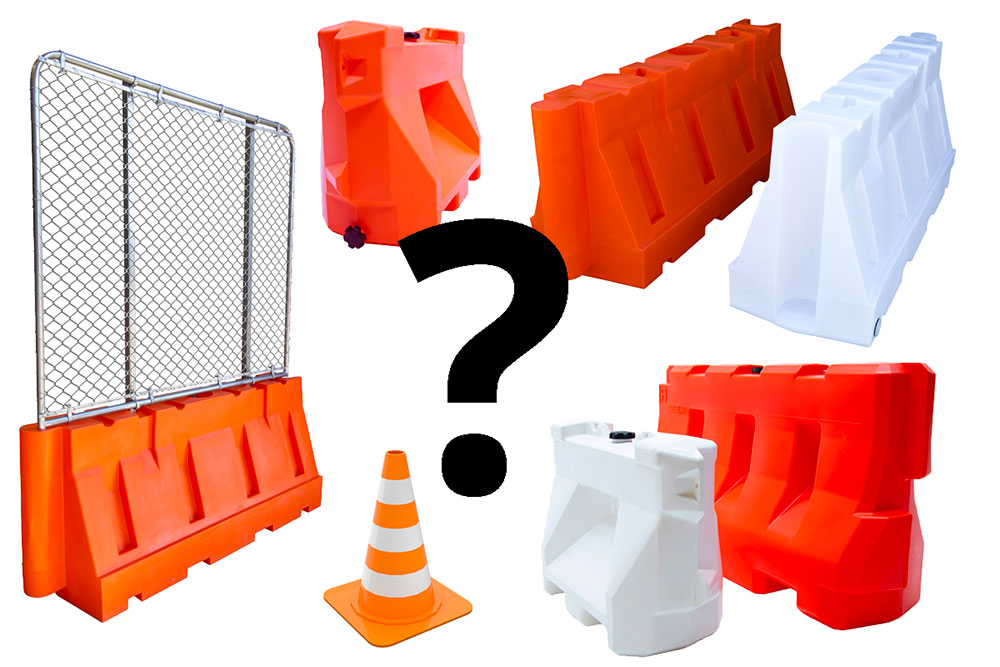Barrier: (20, 36, 320, 622), (515, 16, 965, 347), (520, 356, 951, 660), (304, 7, 478, 237)
Road_cone: (318, 436, 483, 649)
